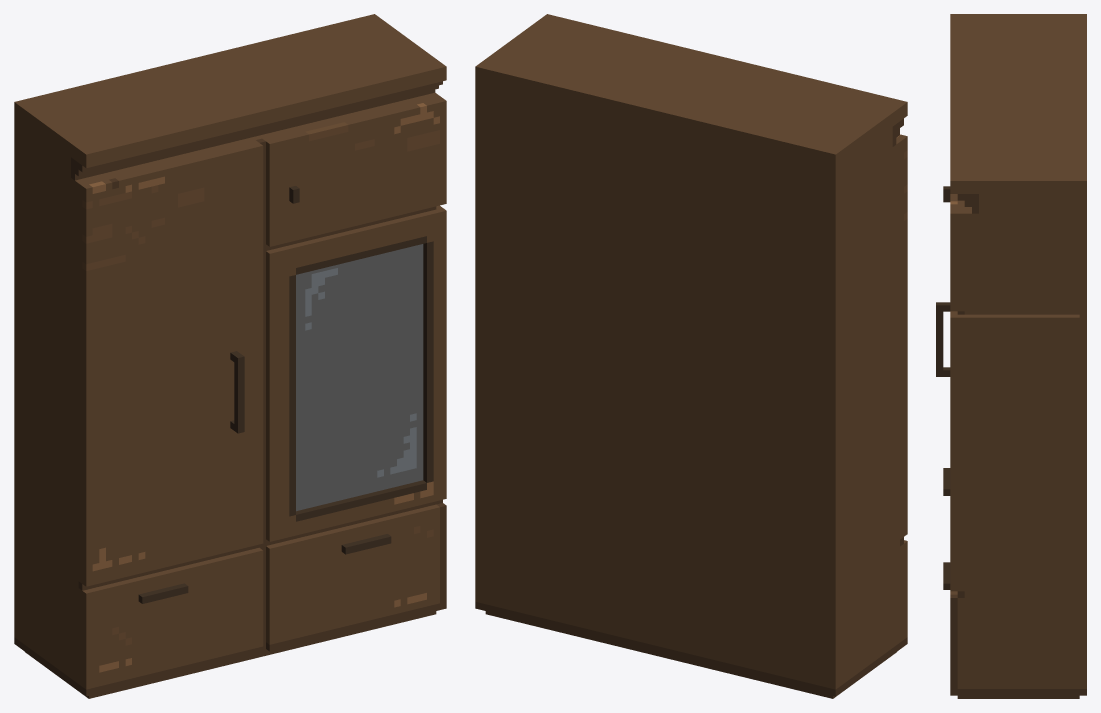
Rendered from shkaf.obj.
3 views of the same model, side by side, from view 1: azimuth 30°, elevation 25°; view 2: azimuth 150°, elevation 25°; view 3: azimuth 270°, elevation 25° (orthographic). The views are drawn at different scales.
Bounding box in the file's own units: 5.5 × 8 × 2.1.
1 material, 1 textured.
